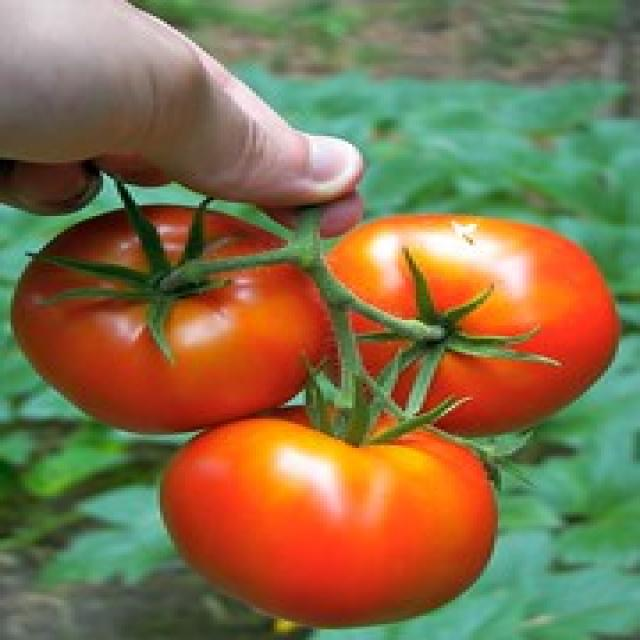Tomato: (147, 417, 502, 634), (8, 201, 322, 440), (312, 211, 624, 438)
